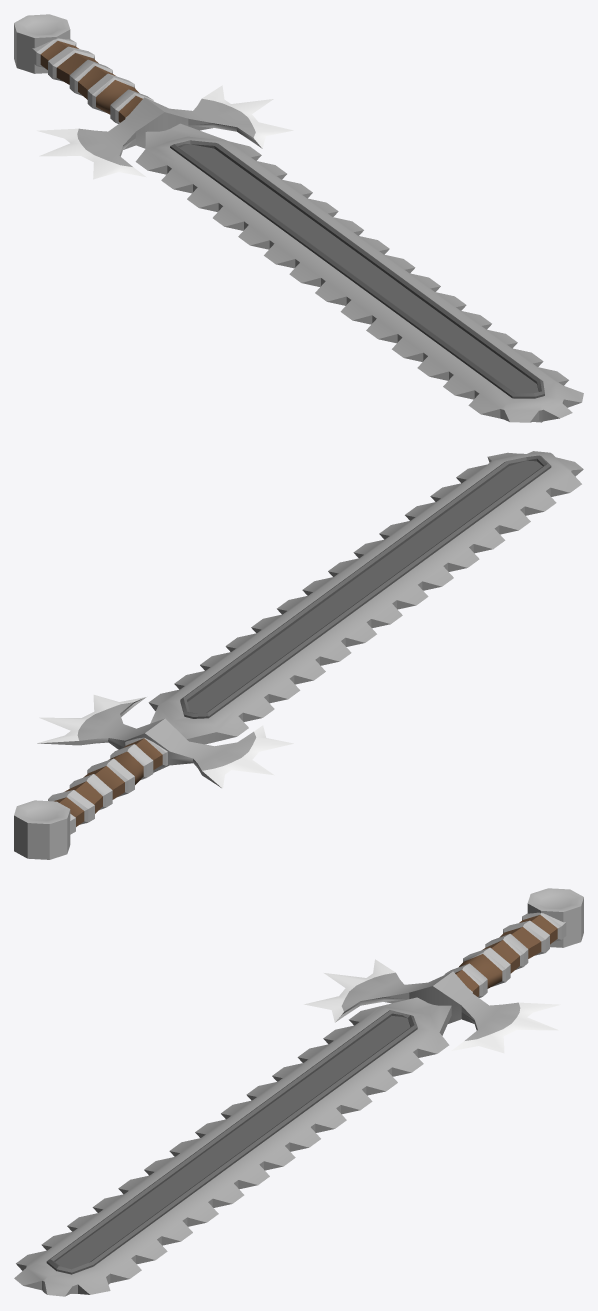
Rendered from 79_knife_3.fbx.
The picture shows the model from 3 angles, top to bottom: view 1: azimuth 30°, elevation 25°; view 2: azimuth 150°, elevation 25°; view 3: azimuth 330°, elevation 25°; orthographic projection.
Visible parts, largest first — view 1: 79_knife_3; view 2: 79_knife_3; view 3: 79_knife_3.
Part boxes in pixels (left/top/right/bottom): 79_knife_3: left=14, top=14, right=583, bottom=422; 79_knife_3: left=14, top=451, right=583, bottom=859; 79_knife_3: left=14, top=888, right=583, bottom=1296.
Size of the model in its own units: 79.72 by 14.06 by 309.
